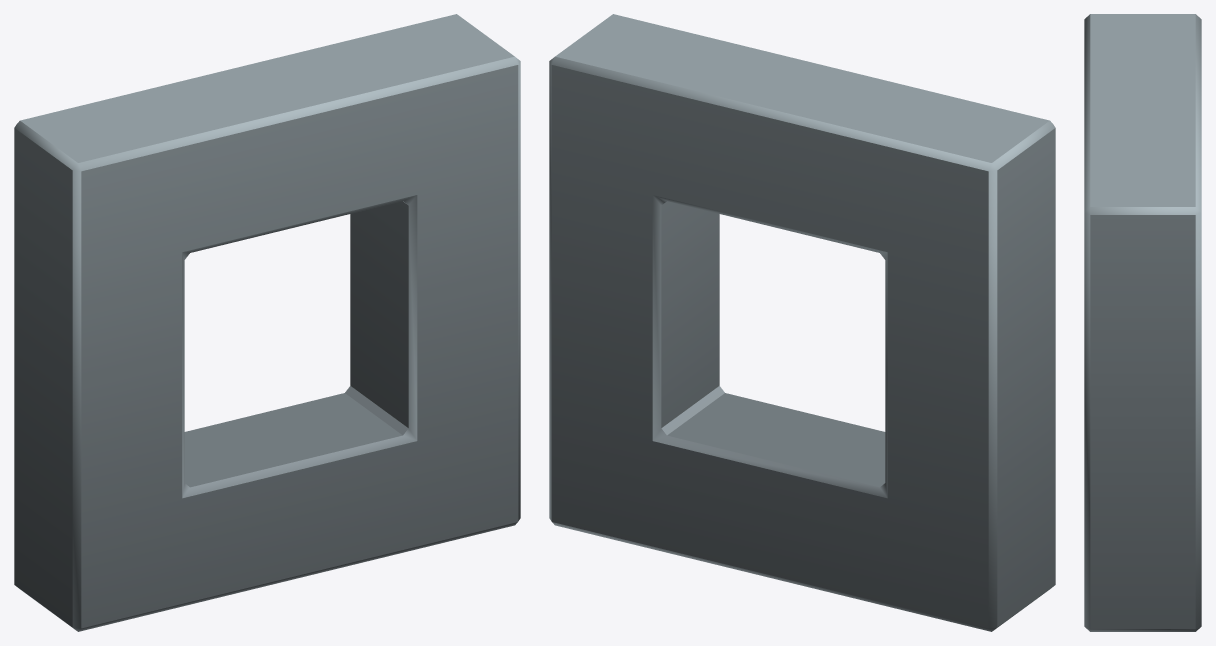
The model's file is Primitive_Window.fbx.
The picture shows the model from 3 angles, left to right: view 1: azimuth 30°, elevation 25°; view 2: azimuth 150°, elevation 25°; view 3: azimuth 270°, elevation 25°; orthographic projection. The views are drawn at different scales.
Parts seen in each view (by area): view 1: Primitive_Window; view 2: Primitive_Window; view 3: Primitive_Window.
Boxes of the visible parts, x1=… form: Primitive_Window: x1=14, y1=14, x2=520, y2=631; Primitive_Window: x1=549, y1=14, x2=1055, y2=631; Primitive_Window: x1=1084, y1=14, x2=1201, y2=631.
Bounding box in the file's own units: 4 × 4 × 1.
